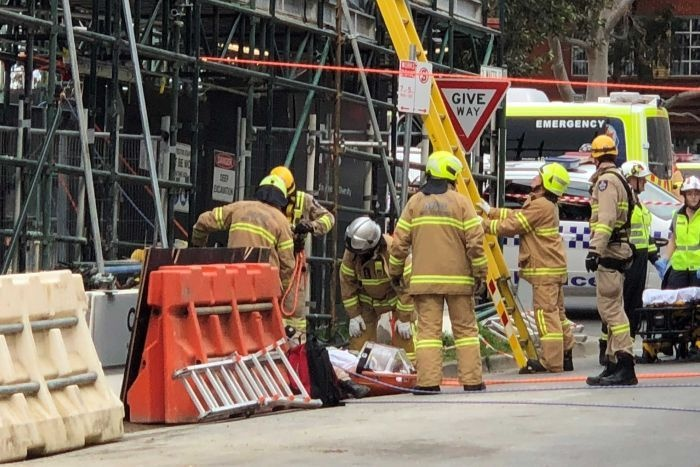white: (343, 216, 379, 256), (619, 157, 647, 193), (680, 176, 700, 211)
yellow: (527, 163, 569, 198), (424, 151, 461, 188), (257, 174, 287, 204), (270, 165, 295, 197), (592, 134, 616, 164)
